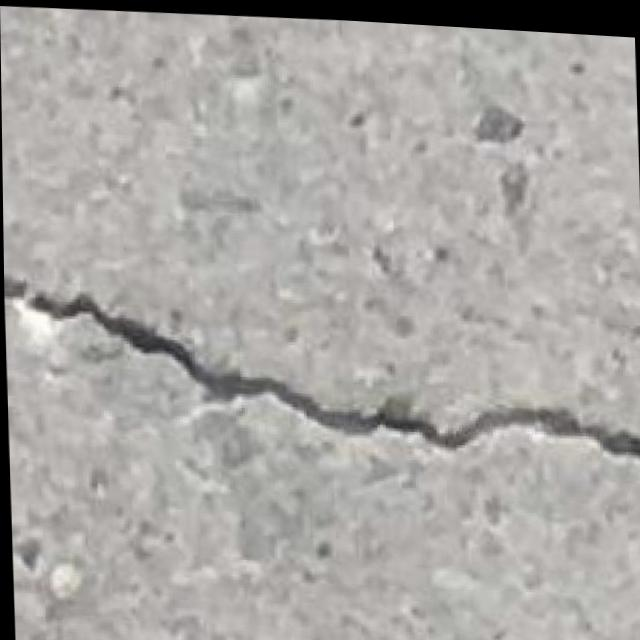Crack: (3, 250, 640, 485)
